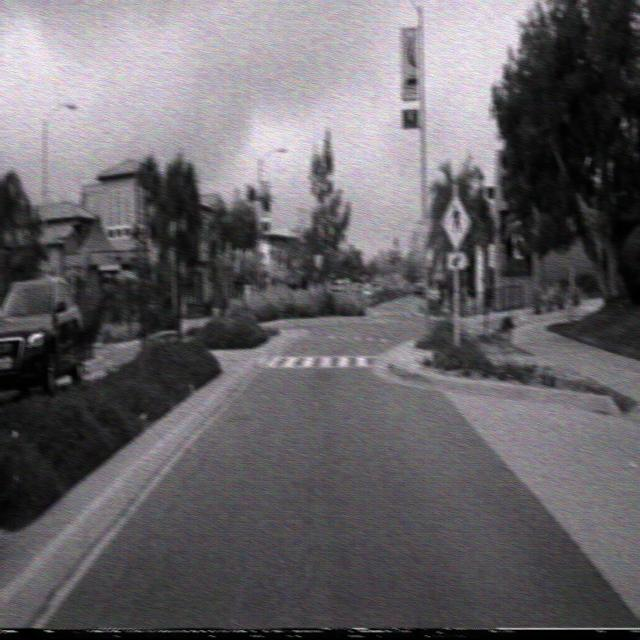pedestrianCrossing: (440, 190, 471, 251)
yield: (416, 217, 432, 244), (294, 205, 310, 229)
